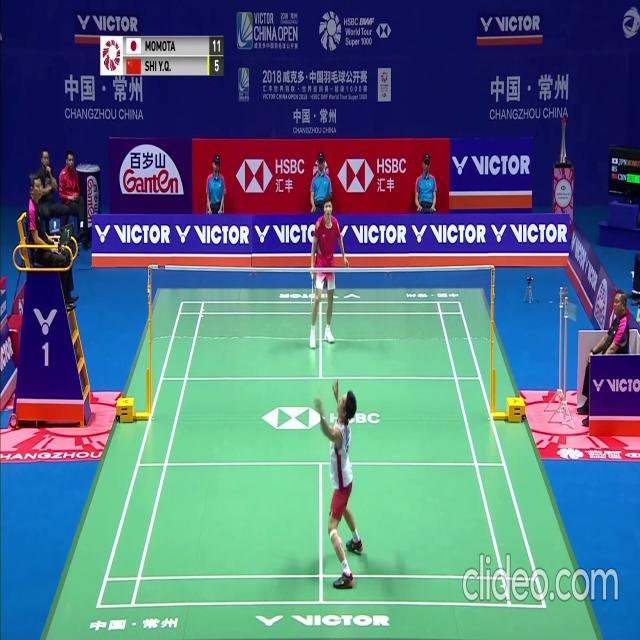Shuttlecock: (313, 334, 318, 342)
